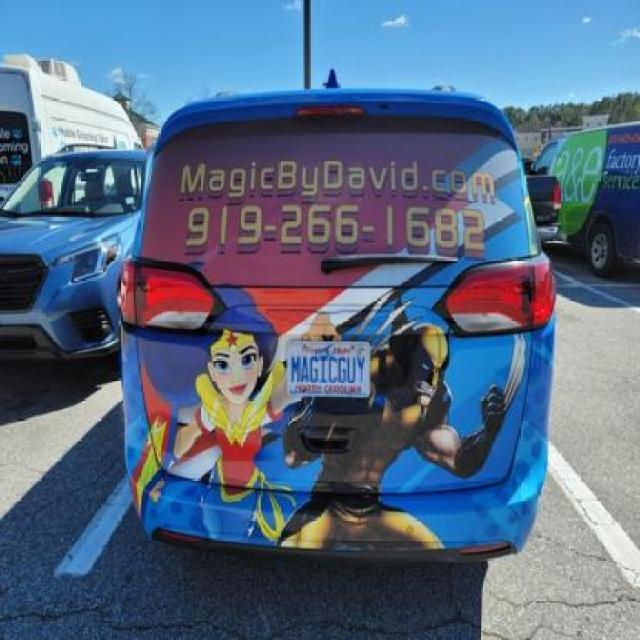LicensePlate: (286, 339, 369, 397)
